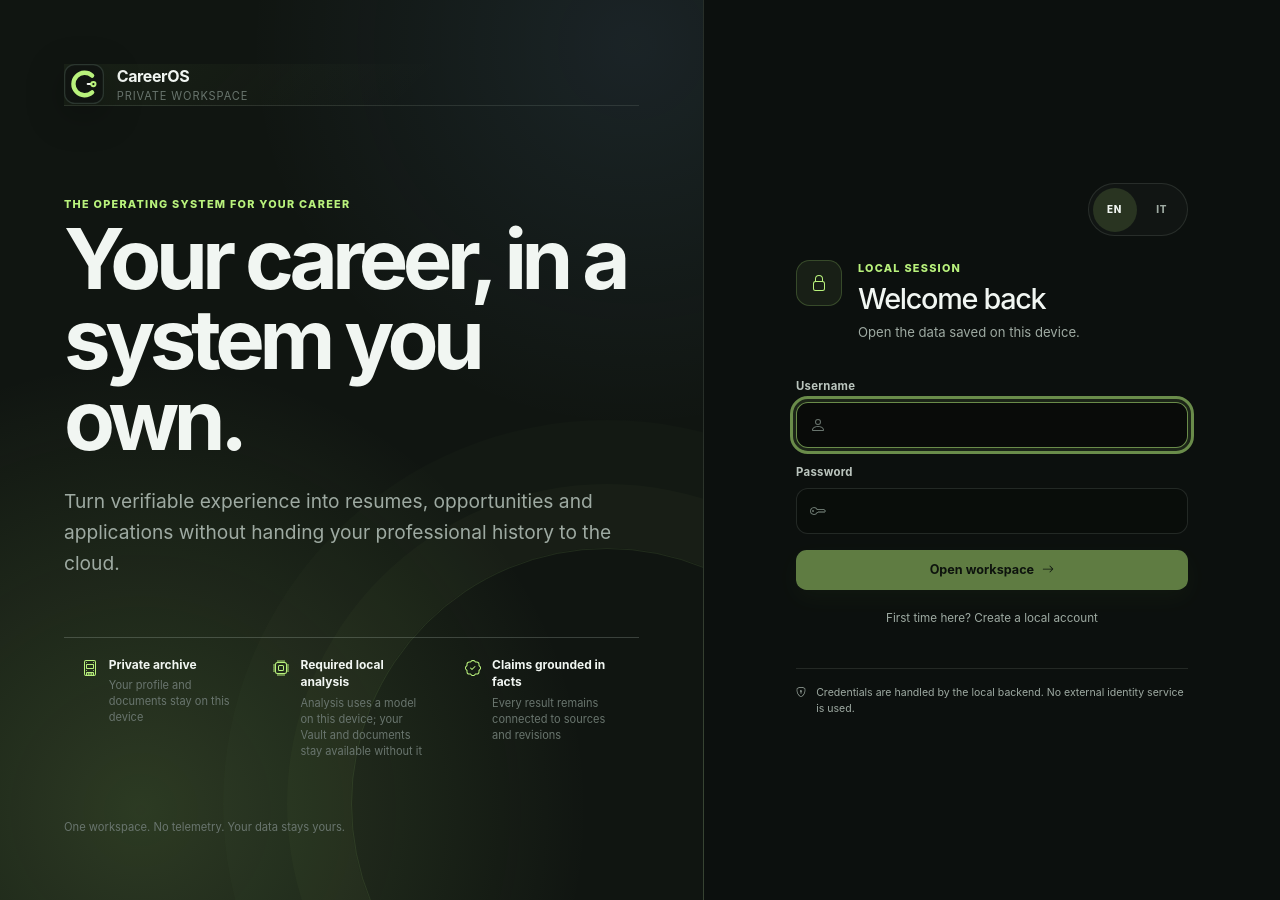
Test: Login localization › retranslates an authentication fallback without rewriting server errors
The width and height of the screenshot is (1280, 900).
Step 1. Click the button "First time here? Create a local account" → (992, 619), box [881,606,1103,633]
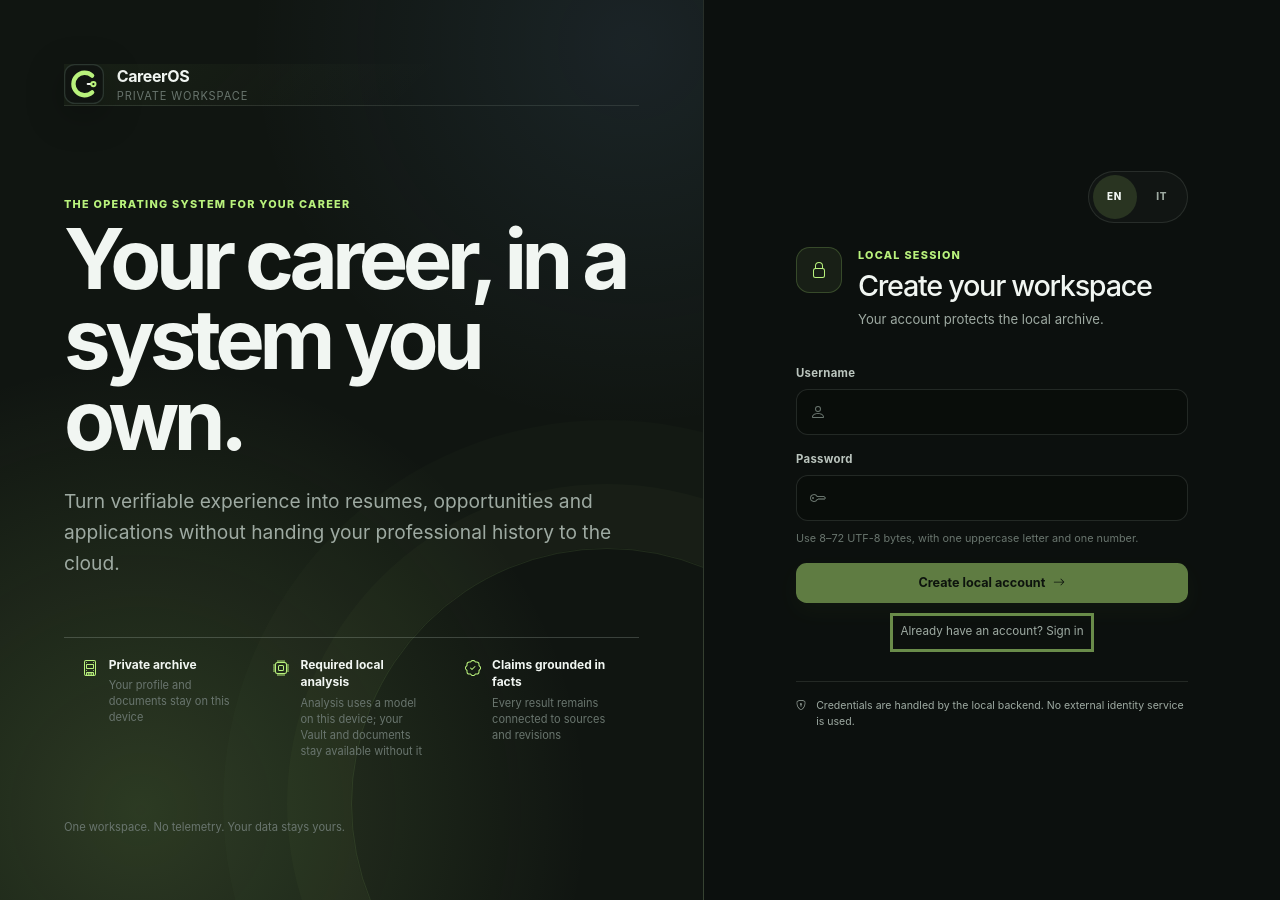
Step 2. Type "demo-user" into the field labelled "Username" → (992, 412), box [796,389,1188,435]
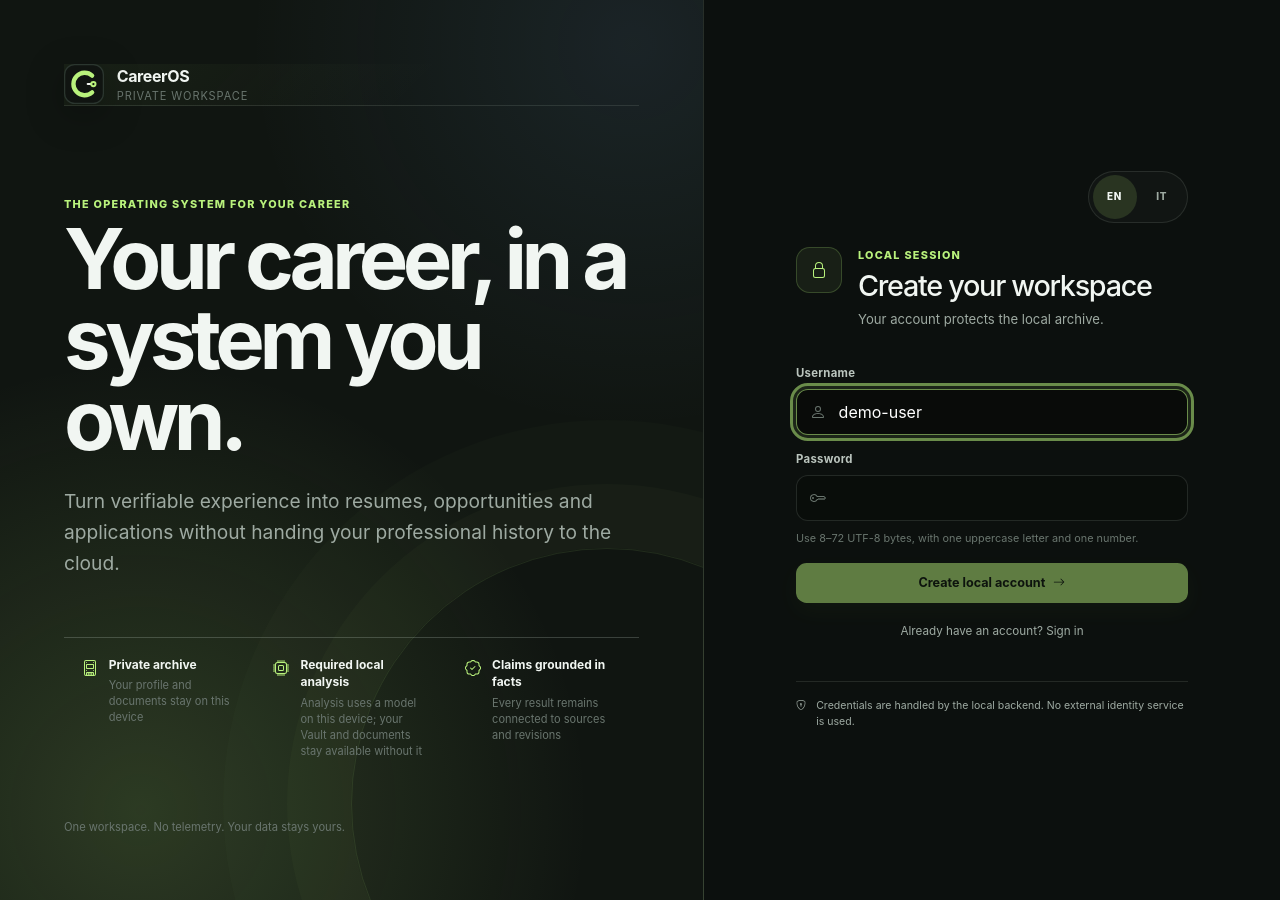
Step 3. Type "Password1" into the password field labelled "Password" → (992, 498), box [796,475,1188,521]
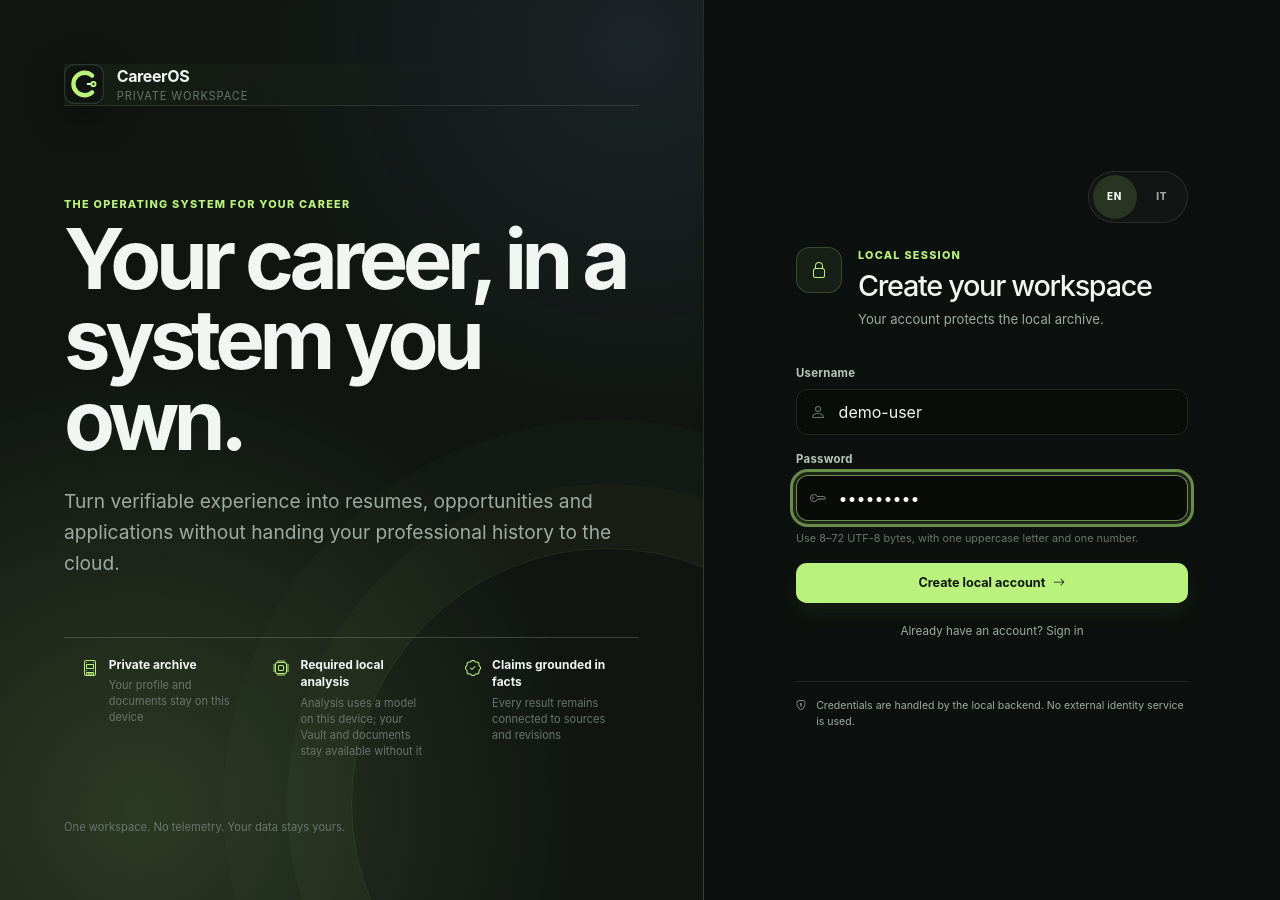
Step 4. Click the button "Create local account" → (992, 582), box [796,562,1188,602]
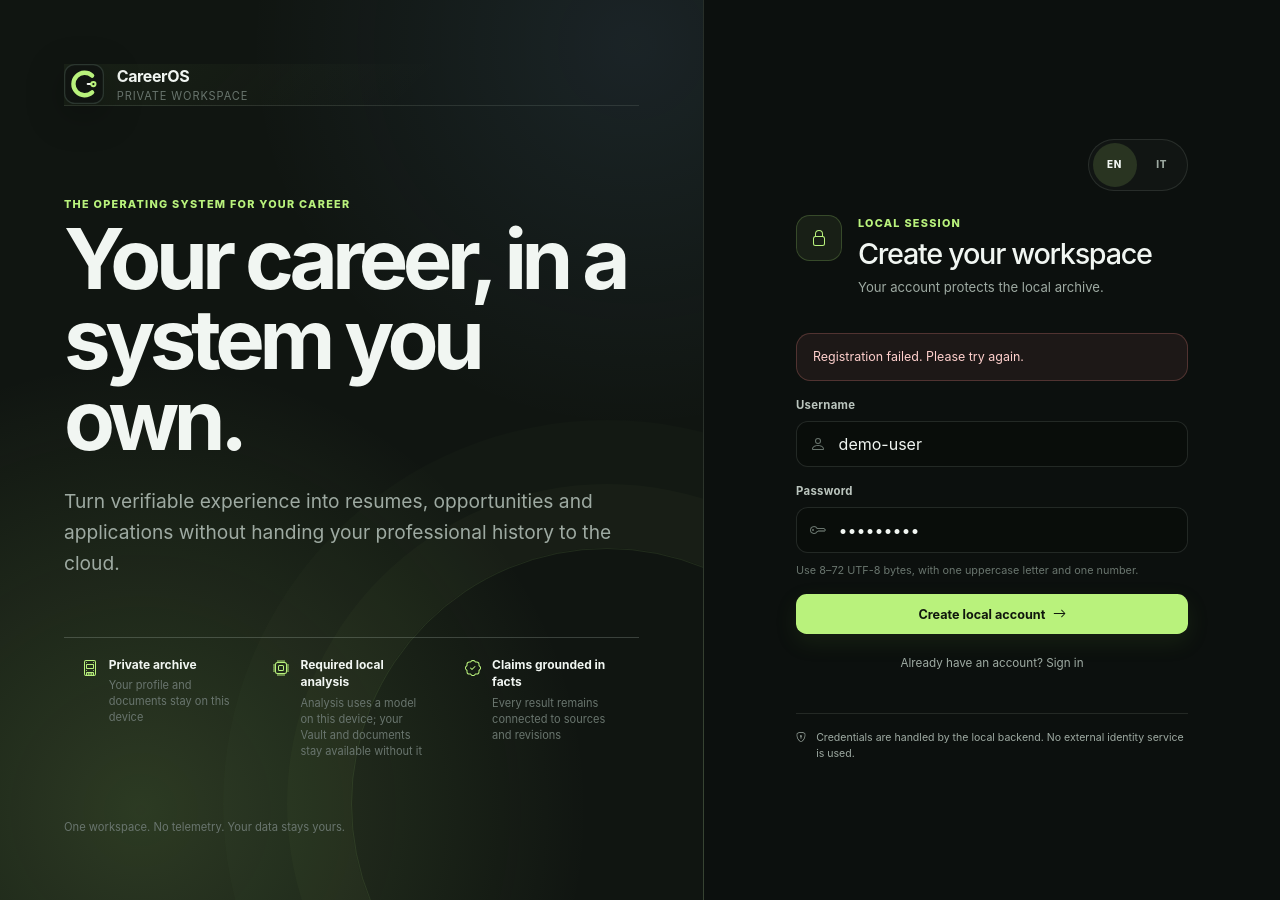
Check: the message reads "Registration failed. Please try again.", box [813,349,1024,364]
Step 5. Click the button with aria-label "IT Italian" → (1162, 165), box [1140,143,1184,187]
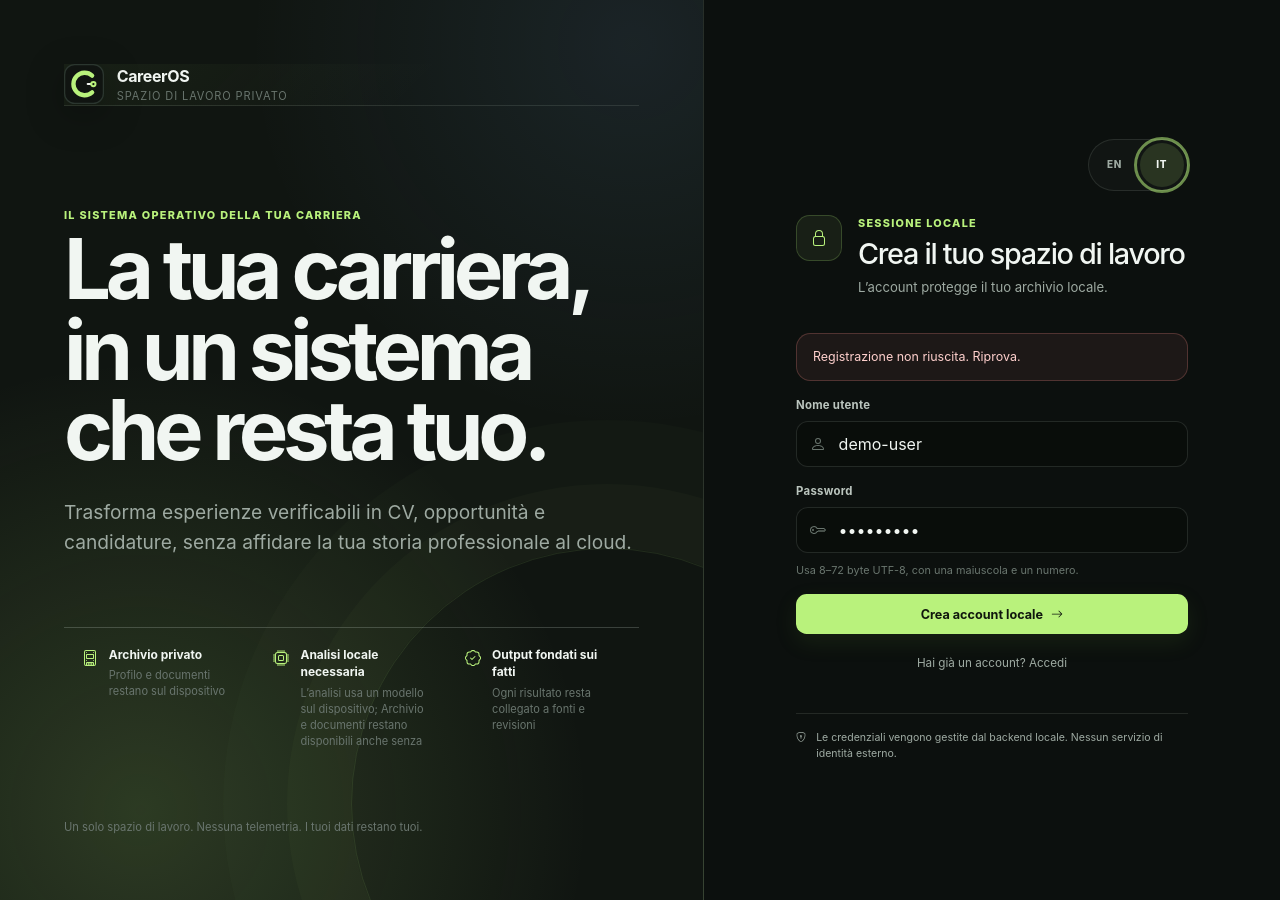
Check: the message reads "Registrazione non riuscita. Riprova.", box [813,349,1020,364]
